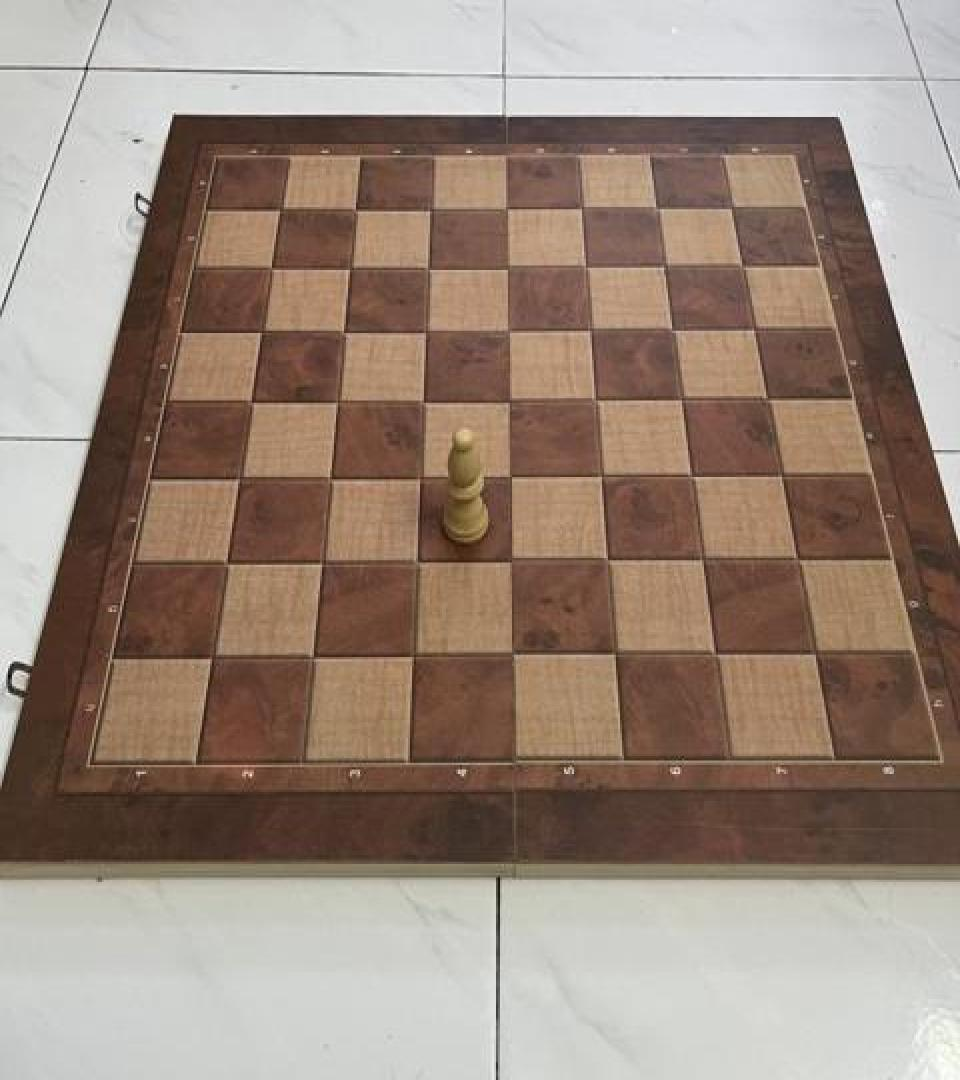xcorner: (724, 245, 760, 286), (646, 245, 682, 286), (567, 245, 603, 286), (489, 245, 525, 286), (410, 245, 446, 286), (332, 245, 368, 286), (253, 245, 289, 286), (736, 308, 772, 349), (654, 309, 690, 350), (572, 309, 608, 350), (490, 309, 526, 350), (408, 309, 444, 350), (326, 309, 362, 350), (243, 309, 279, 350), (491, 379, 527, 420), (405, 379, 441, 420), (319, 379, 355, 420), (233, 379, 269, 420), (795, 633, 831, 674), (695, 633, 731, 674), (595, 633, 631, 674), (494, 633, 530, 674), (714, 187, 750, 227), (638, 187, 674, 227), (563, 187, 599, 227), (488, 187, 524, 227), (413, 187, 449, 227), (337, 187, 373, 227), (262, 187, 298, 227), (748, 378, 784, 418), (663, 378, 699, 418), (577, 378, 613, 418), (762, 455, 798, 495), (672, 455, 708, 495), (582, 455, 618, 495), (492, 456, 528, 496), (402, 456, 438, 496), (311, 456, 347, 496), (221, 456, 257, 496), (778, 539, 814, 579), (683, 540, 719, 580), (588, 540, 624, 580), (493, 540, 529, 580), (398, 540, 434, 580), (303, 540, 339, 580), (208, 540, 244, 580), (394, 635, 430, 675), (294, 635, 330, 675), (193, 635, 229, 675)
